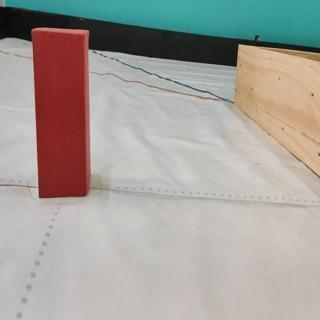redbox: (31, 26, 90, 197)
